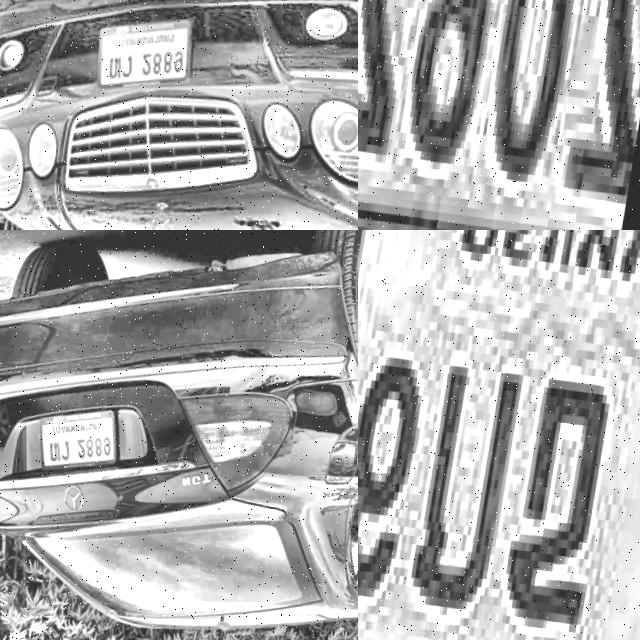license-plate: (358, 230, 640, 640), (358, 0, 640, 230), (92, 0, 204, 99), (37, 392, 137, 484)
